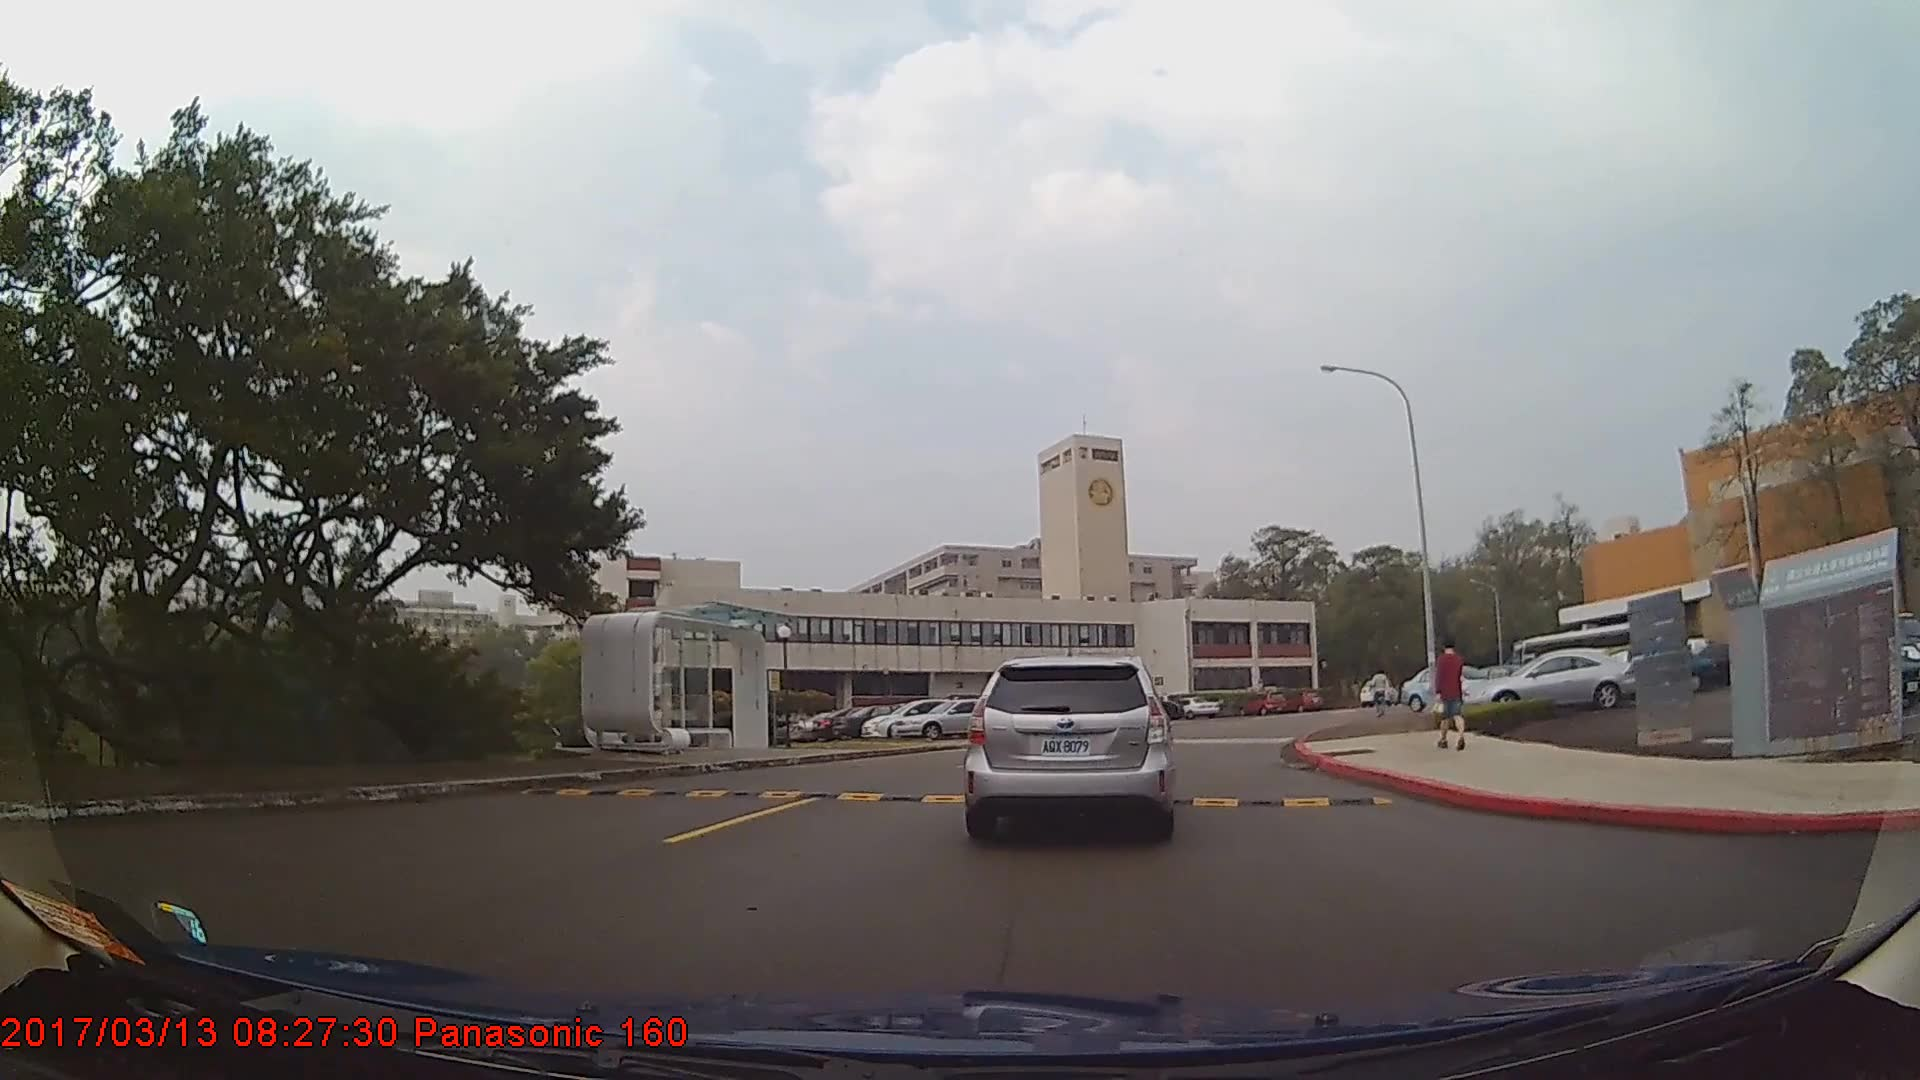pedestrian: (1434, 635, 1470, 755), (1369, 667, 1395, 718)
vehicle: (965, 653, 1173, 841), (1460, 646, 1638, 710), (890, 695, 1010, 736)
